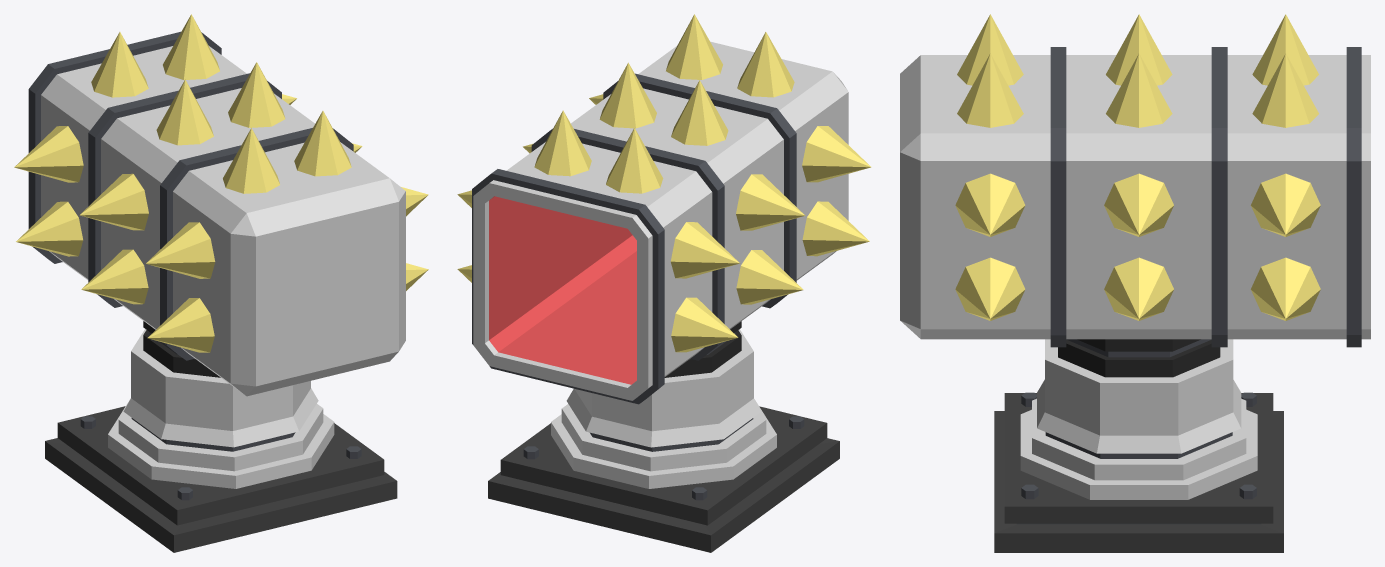
File: missile_turret.fbx
The picture shows the model from 3 angles, left to right: view 1: azimuth 30°, elevation 25°; view 2: azimuth 150°, elevation 25°; view 3: azimuth 270°, elevation 25°; orthographic projection. The views are drawn at different scales.
Visible parts, largest first — view 1: Mesh; view 2: Mesh; view 3: Mesh.
Part boxes in pixels (bbox=[...]): Mesh: bbox=[14, 14, 428, 552]; Mesh: bbox=[457, 14, 871, 552]; Mesh: bbox=[900, 14, 1370, 552].
Bounding box in the file's own units: 1.17 × 1.61 × 1.5.
